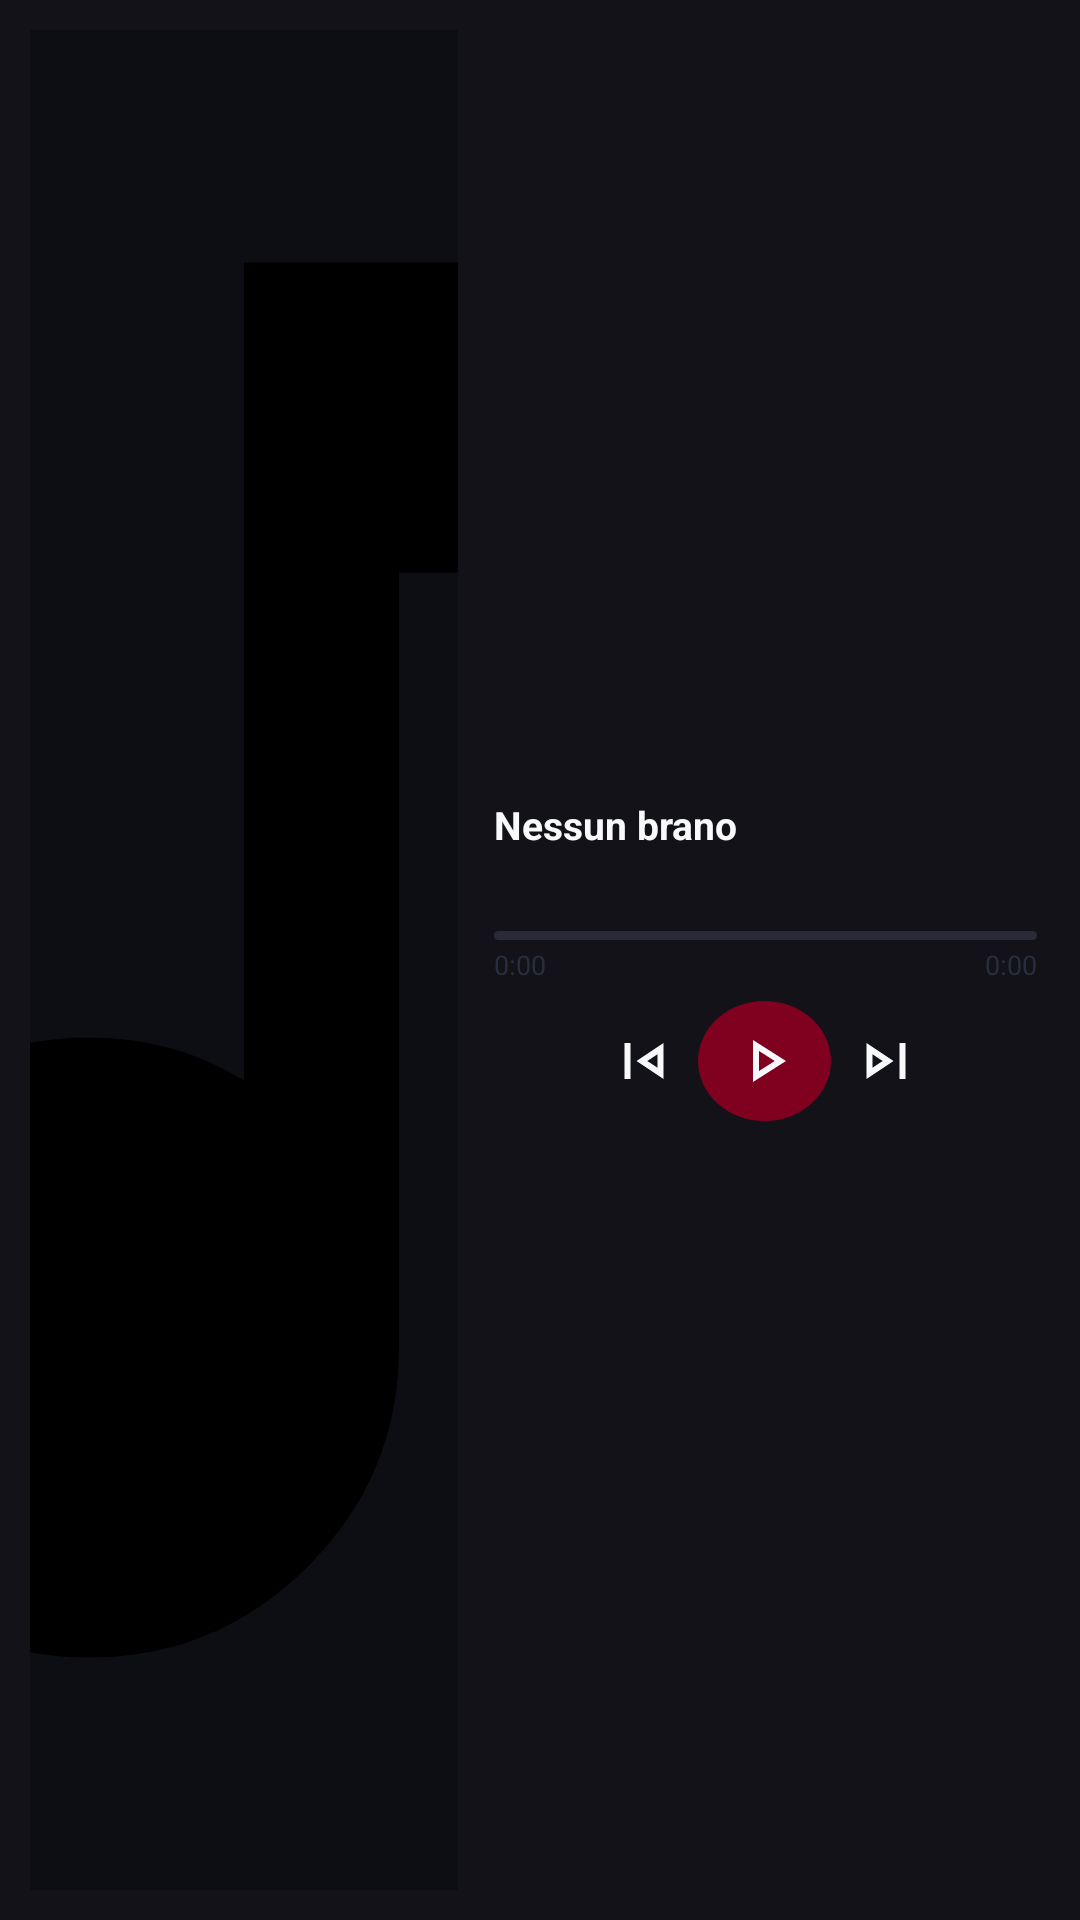

Screen size 1080px×1920px. Icon name, then its box in pixels as box=[x1, y1, x2, y2]:
Play/Pausa: box=[698, 1001, 831, 1121]
Precedente: box=[624, 1043, 664, 1079]
Successivo: box=[866, 1043, 906, 1079]
